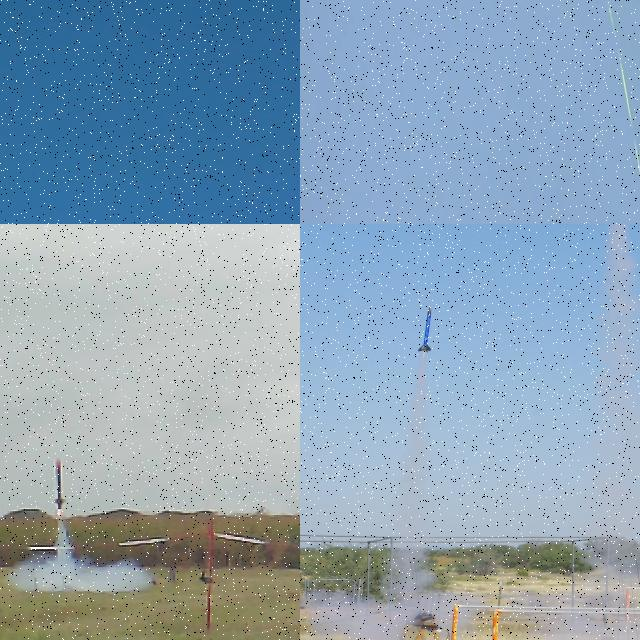Rocket: (52, 457, 68, 510), (418, 306, 432, 352)
